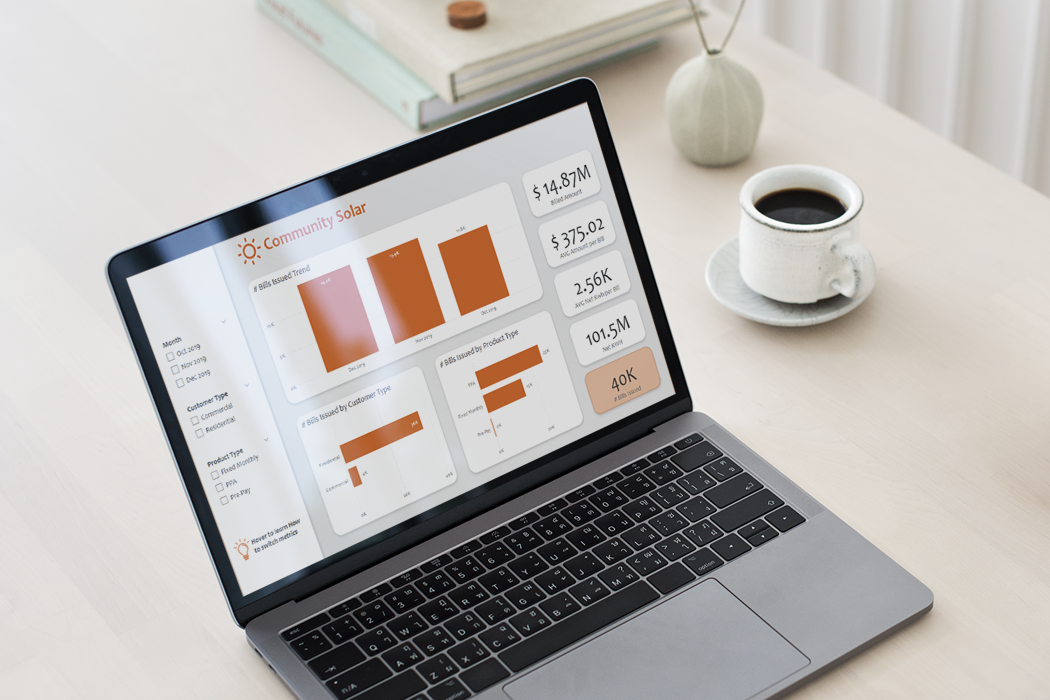

What the dashboard file says about the page in this screenshot:
{"tool":"powerbi","page":{"name":"Billing Report","canvas":[1280,720],"ordinal":0},"visuals":[{"type":"actionButton","box":[1200,18,56,40],"z":0,"group":"g3"},{"type":"card","title":"Ba","fields":{"Values":["Measure.Billed Amount"]},"box":[951,90.2,299,108.2],"z":0,"group":"g1"},{"type":"textbox","box":[341,12,300,67],"z":1000},{"type":"columnChart","title":"Measure by Month","fields":{"Y":["Measure.Bills Issued"],"Category":["Sales.Month"]},"box":[241.8,79.2,678.6,345.4],"z":1000,"group":"g3"},{"type":"card","title":"NK","fields":{"Values":["Measure.Net KwH"]},"box":[951,211.3,299,108.2],"z":1000,"group":"g1"},{"type":"actionButton","title":"bi","box":[948.9,584.2,300.1,106.3],"z":1000,"group":"g2"},{"type":"textbox","box":[57,647,149,67],"z":1000,"group":"g4"},{"type":"image","title":"Sun","box":[252,0,89,83],"z":2000},{"type":"card","title":"BAB","fields":{"Values":["Measure.Billed Amount/Bill"]},"box":[951,340.2,299,108.2],"z":2000,"group":"g1"},{"type":"clusteredBarChart","title":"Measure by Customer Type","fields":{"Y":["Measure.Bills Issued"],"Category":["Sales.Customer Type"]},"box":[242.3,430.4,324.7,270.6],"z":2000,"group":"g3"},{"type":"actionButton","title":"nkb","box":[950.7,468.6,298.5,106.3],"z":2000,"group":"g2"},{"type":"card","fields":{"Values":["Measure.Blank"]},"box":[2.6,636.5,206.2,82.5],"z":2000,"group":"g4"},{"type":"slicer","title":"para","fields":{"Values":["Parameter.Parameter"]},"box":[317.4,150.7,95.2,13.2],"z":3000},{"type":"actionButton","title":"bab","box":[950.7,342,298.5,107.8],"z":3000,"group":"g2"},{"type":"clusteredBarChart","title":"Measure by Product Type","fields":{"Y":["Measure.Bills Issued"],"Category":["Sales.Product Type"]},"box":[595.4,430.4,324.7,270.6],"z":3000,"group":"g3"},{"type":"card","title":"NKB","fields":{"Values":["Measure.Net KwH/Bill"]},"box":[951,466.5,299,108.2],"z":3000,"group":"g1"},{"type":"image","box":[0,636.5,72.2,64.4],"z":3000,"group":"g4"},{"type":"group","id":"g1","title":"card","box":[951,90.2,299,600.5],"z":4000},{"type":"actionButton","title":"nk","box":[951.3,214.6,297.5,104.6],"z":4000,"group":"g2"},{"type":"slicer","title":"state","fields":{"Values":["Sales.State"]},"box":[12.9,244.8,185.6,79.9],"z":4000,"group":"g4"},{"type":"card","title":"bi","fields":{"Values":["Measure.Bills Issued"]},"box":[951,582.5,299,108.2],"z":4000,"group":"g1"},{"type":"group","id":"g2","title":"buttons","box":[948.9,91.9,301.8,598.6],"z":5000},{"type":"actionButton","title":"ba","box":[950.6,91.9,300.1,107.8],"z":5000,"group":"g2"},{"type":"slicer","title":"P type","fields":{"Values":["Sales.Product Type"]},"box":[12.9,487.1,185.6,79.9],"z":5000,"group":"g4"},{"type":"group","id":"g3","title":"charts","box":[241.8,18,1014.2,683],"z":6000},{"type":"slicer","title":"c type","fields":{"Values":["Sales.Customer Type"]},"box":[12.9,407.2,185.6,79.9],"z":6000,"group":"g4"},{"type":"group","id":"g4","title":"slicer panel","box":[0,164.9,412,555.1],"z":7000},{"type":"slicer","title":"month","fields":{"Values":["Sales.Month"]},"box":[12.9,324.7,185.6,79.9],"z":7000,"group":"g4"},{"type":"slicer","title":"project","fields":{"Values":["Sales.Project"]},"box":[12.9,164.9,185.6,79.9],"z":8000,"group":"g4"}]}

Visuals, with their boxes on the page's 1280x720 design canvas (x1, y1, x2, y2). These are canvas units, not pixel positions in the 1050x700 screenshot, which may show the page scaled, cropped or inside an application window:
actionButton: <box>1200,18,1256,58</box>
"Ba" card: <box>951,90,1250,198</box>
textbox: <box>341,12,641,79</box>
"Measure by Month" columnChart: <box>242,79,920,425</box>
"NK" card: <box>951,211,1250,320</box>
"bi" actionButton: <box>949,584,1249,690</box>
textbox: <box>57,647,206,714</box>
"Sun" image: <box>252,0,341,83</box>
"BAB" card: <box>951,340,1250,448</box>
"Measure by Customer Type" clusteredBarChart: <box>242,430,567,701</box>
"nkb" actionButton: <box>951,469,1249,575</box>
card - Measure.Blank: <box>3,636,209,719</box>
"para" slicer: <box>317,151,413,164</box>
"bab" actionButton: <box>951,342,1249,450</box>
"Measure by Product Type" clusteredBarChart: <box>595,430,920,701</box>
"NKB" card: <box>951,466,1250,575</box>
image: <box>0,636,72,701</box>
"card" group: <box>951,90,1250,691</box>
"nk" actionButton: <box>951,215,1249,319</box>
"state" slicer: <box>13,245,198,325</box>
"bi" card: <box>951,582,1250,691</box>
"buttons" group: <box>949,92,1251,690</box>
"ba" actionButton: <box>951,92,1251,200</box>
"P type" slicer: <box>13,487,198,567</box>
"charts" group: <box>242,18,1256,701</box>
"c type" slicer: <box>13,407,198,487</box>
"slicer panel" group: <box>0,165,412,720</box>
"month" slicer: <box>13,325,198,405</box>
"project" slicer: <box>13,165,198,245</box>
